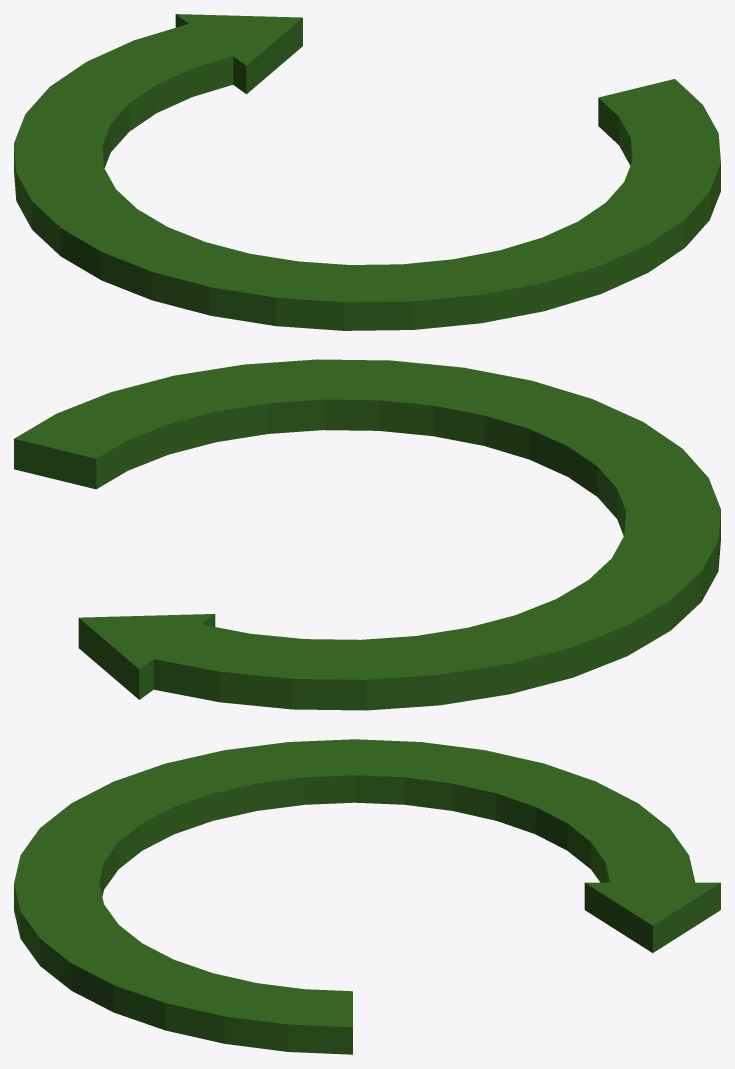
Rendered from turnArrow.gltf.
The picture shows the model from 3 angles, top to bottom: view 1: azimuth 30°, elevation 25°; view 2: azimuth 150°, elevation 25°; view 3: azimuth 270°, elevation 25°; orthographic projection. The views are drawn at different scales.
Parts seen in each view (by area): view 1: Arrow; view 2: Arrow; view 3: Arrow.
Boxes of the visible parts, x1,y1,x2,y2 form: Arrow: (14, 14, 720, 330); Arrow: (14, 359, 720, 710); Arrow: (14, 739, 720, 1054).
Bounding box in the file's own units: 0.8998 × 0.04 × 0.9335.
